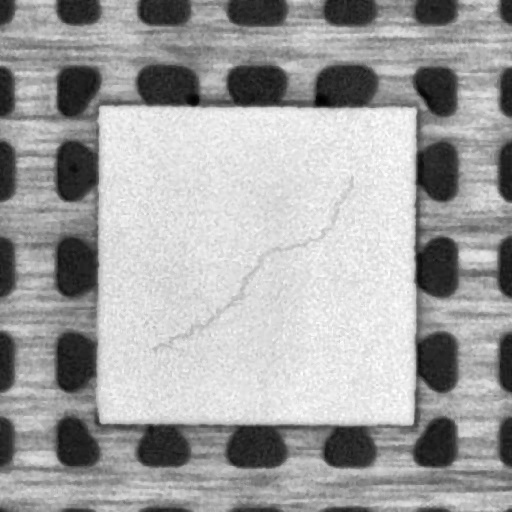DIE_CRACK: (150, 173, 352, 353)
